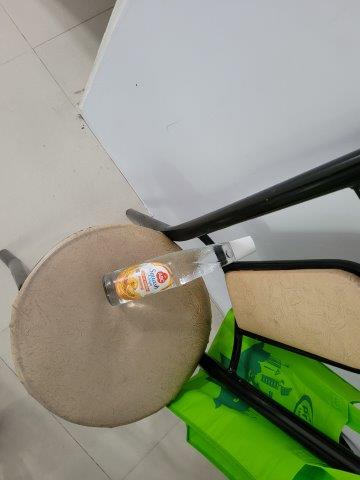botolkaca: (103, 235, 253, 305)
